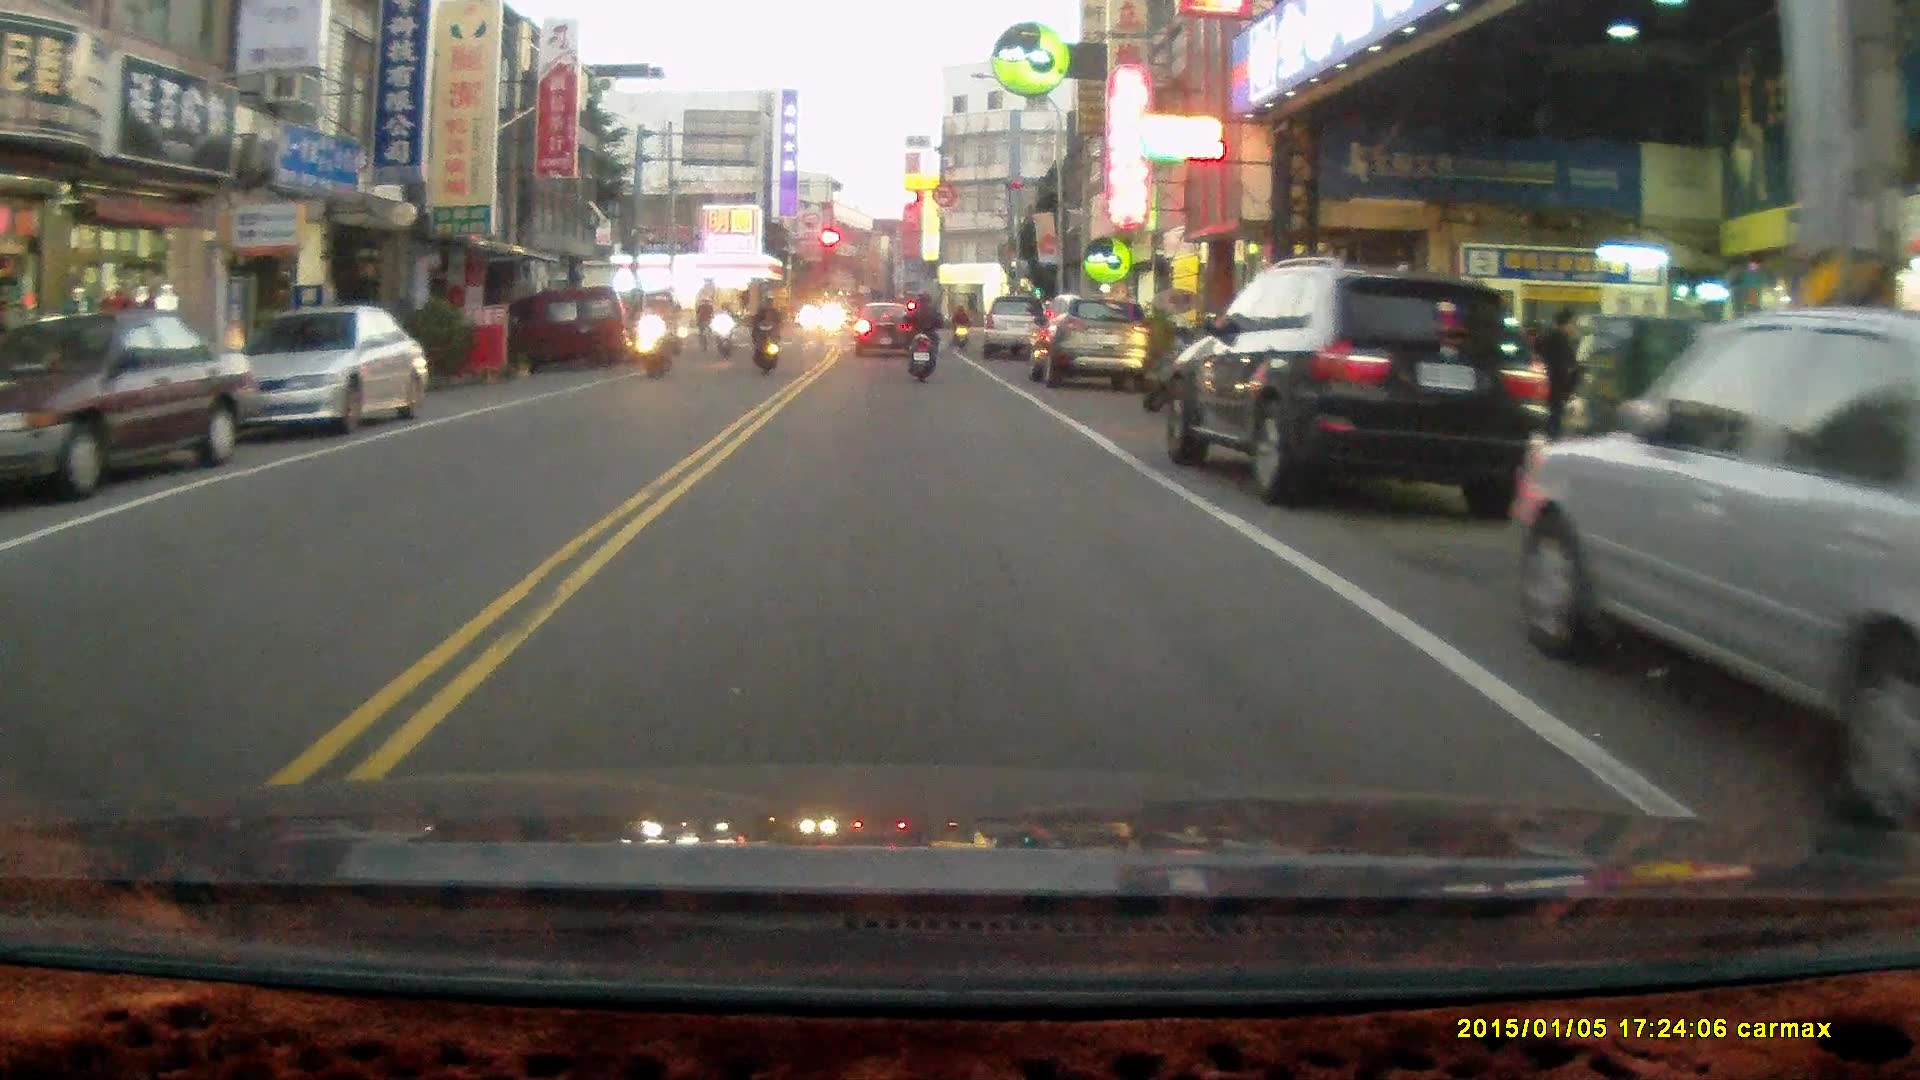pedestrian: (1534, 307, 1580, 480)
rider: (900, 288, 941, 380), (638, 292, 673, 380), (748, 290, 780, 373), (711, 295, 736, 354), (693, 291, 715, 353), (946, 296, 968, 343)
vehicle: (1508, 307, 1920, 814), (1167, 255, 1549, 513), (8, 304, 262, 505), (213, 303, 434, 437), (1026, 293, 1152, 384), (532, 284, 642, 362), (974, 290, 1062, 362)
